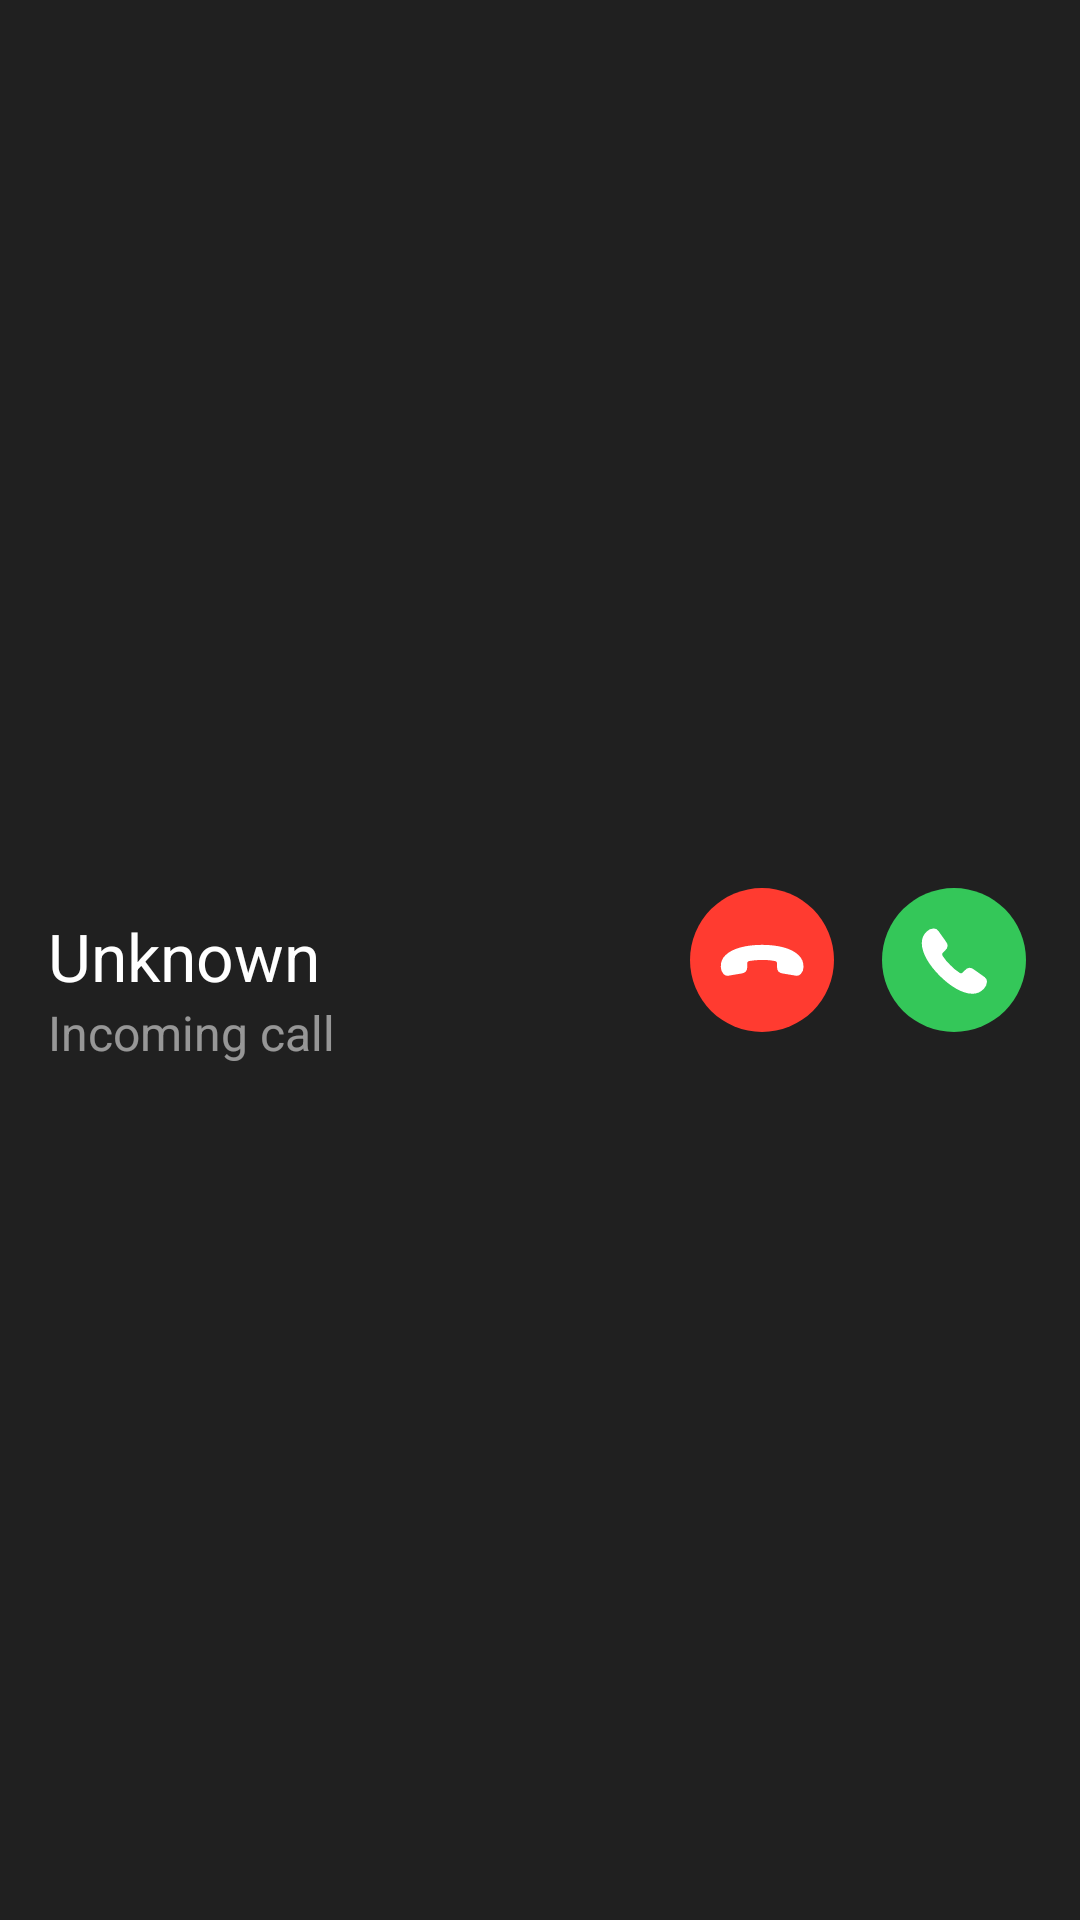

Point at icon controls on the screen. Image size 1080*1920, points as [x,y].
answer: [954,960]
hangup: [762,960]
